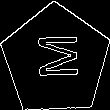M_W: (31, 36, 81, 84)
